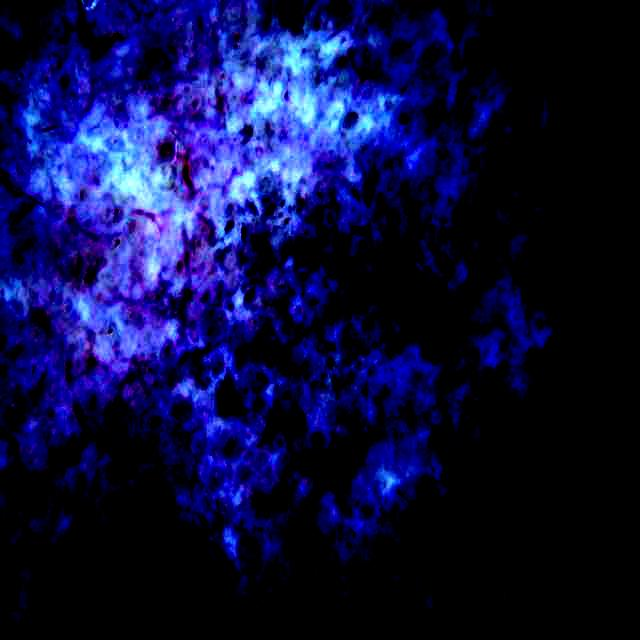AKIEC: (147, 47, 620, 506)
